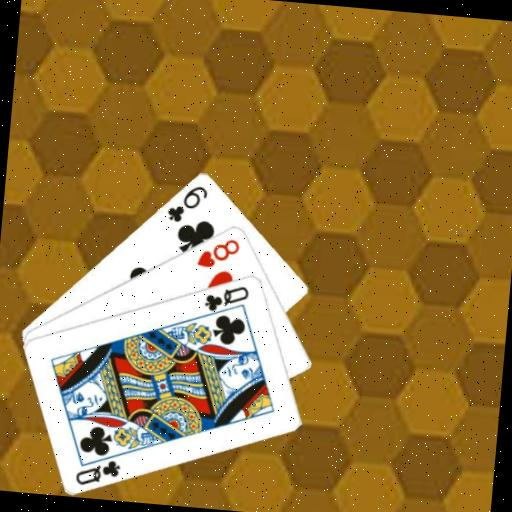6C: (164, 179, 211, 226)
8H: (193, 233, 243, 272)
QC: (201, 279, 252, 315), (72, 454, 123, 490)
